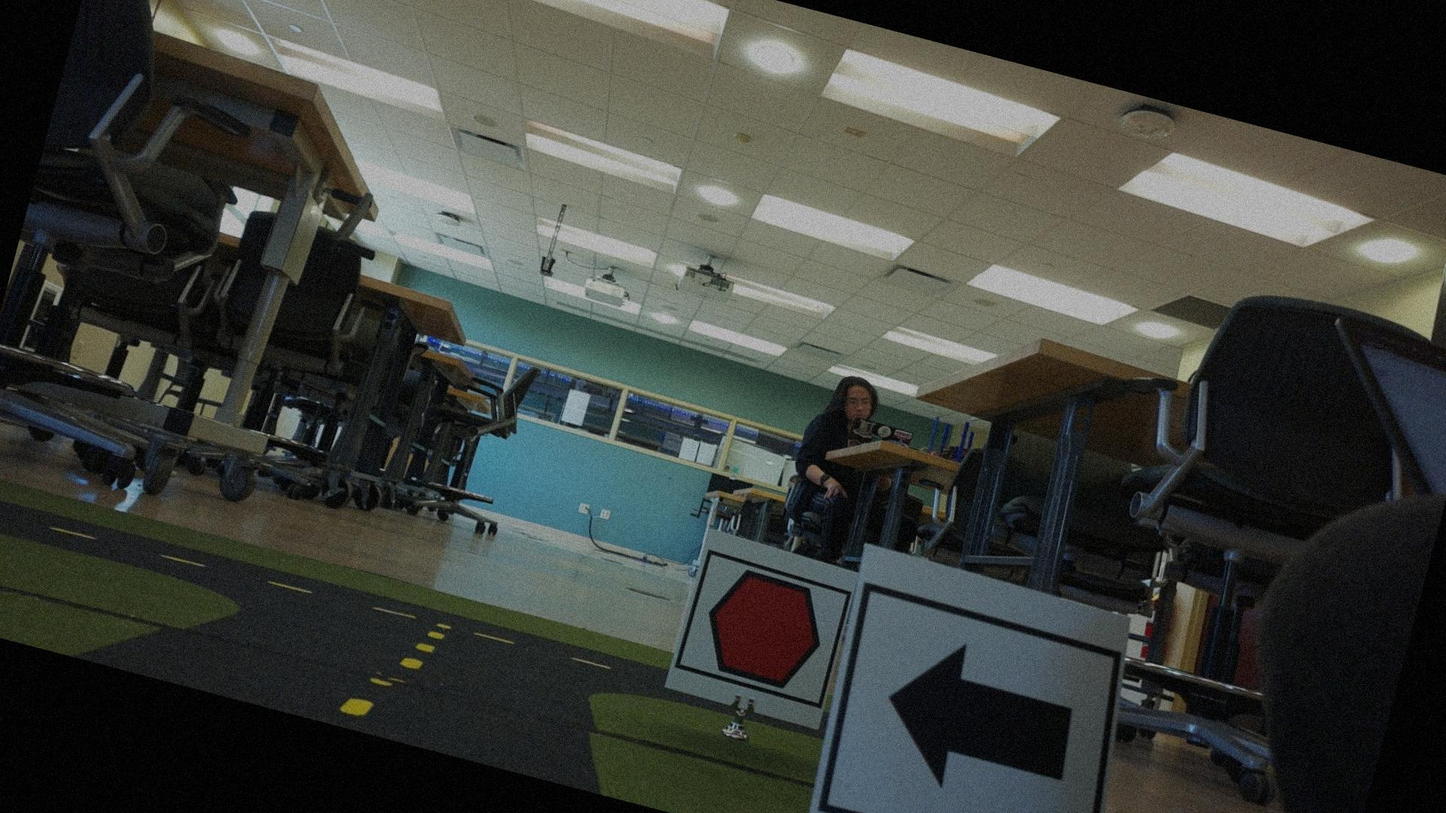stop: (676, 552, 849, 703)
turnright: (816, 588, 1123, 812)
yellowline: (336, 611, 446, 737)
